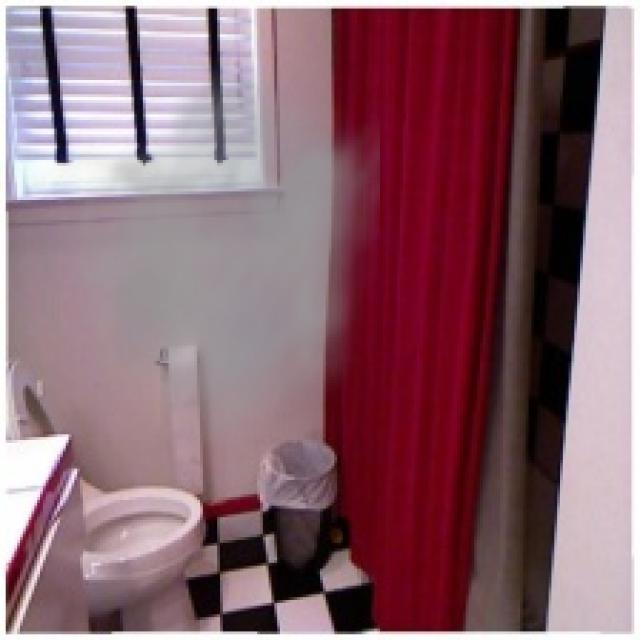smoke: (34, 43, 380, 463)
